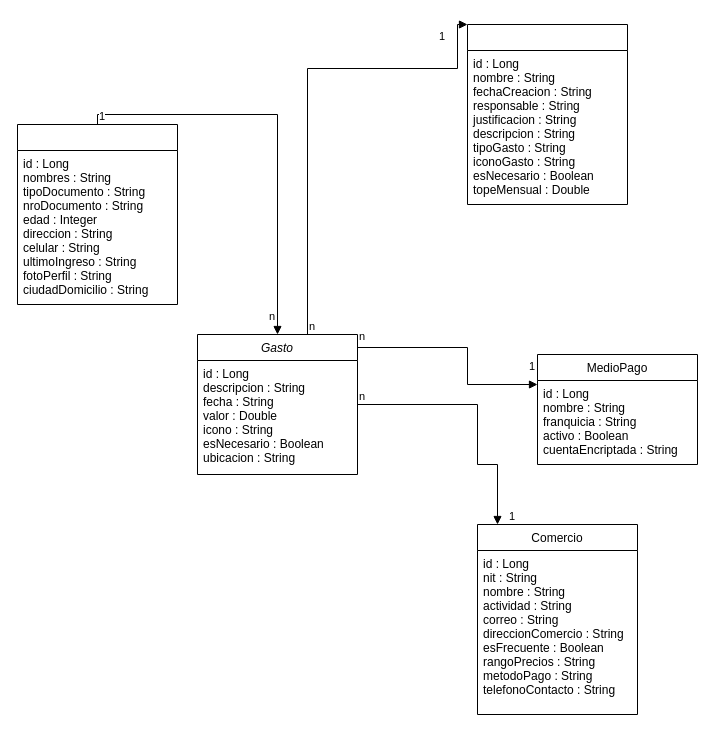
Image size: 715x732. Some labels were removed from this diagram. Each missing label, with the box of its shape:
Categoria: (466, 24, 628, 204)
Usuario: (16, 124, 178, 304)
